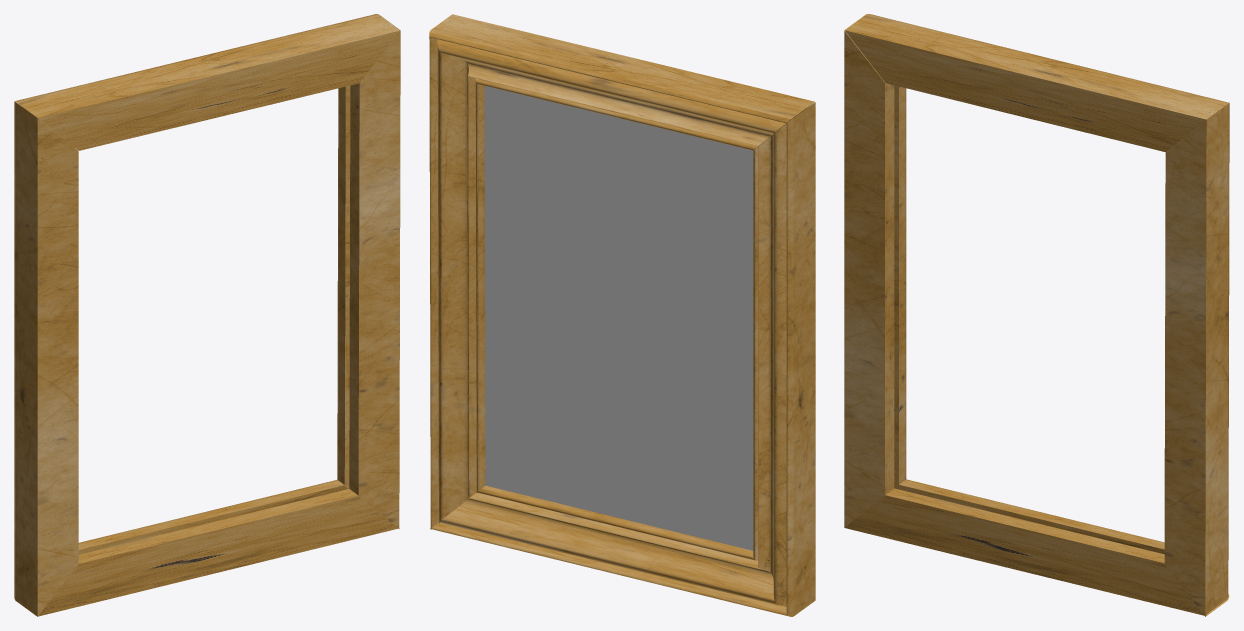
Rendered from Lucifer.glb.
3 views of the same model, side by side, from view 1: azimuth 30°, elevation 25°; view 2: azimuth 150°, elevation 25°; view 3: azimuth 330°, elevation 25° (orthographic).
Visible parts, largest first — view 1: BézierCurve.003; view 2: Cube, BézierCurve.003; view 3: BézierCurve.003.
Part boxes in pixels (<box>): BézierCurve.003: <box>14,14,400,616</box>; Cube: <box>484,86,754,550</box>; BézierCurve.003: <box>429,14,815,616</box>; BézierCurve.003: <box>844,14,1229,616</box>.
Size of the model in its own units: 0.7974 by 1.05 by 0.1003.
1 material, 1 textured.
